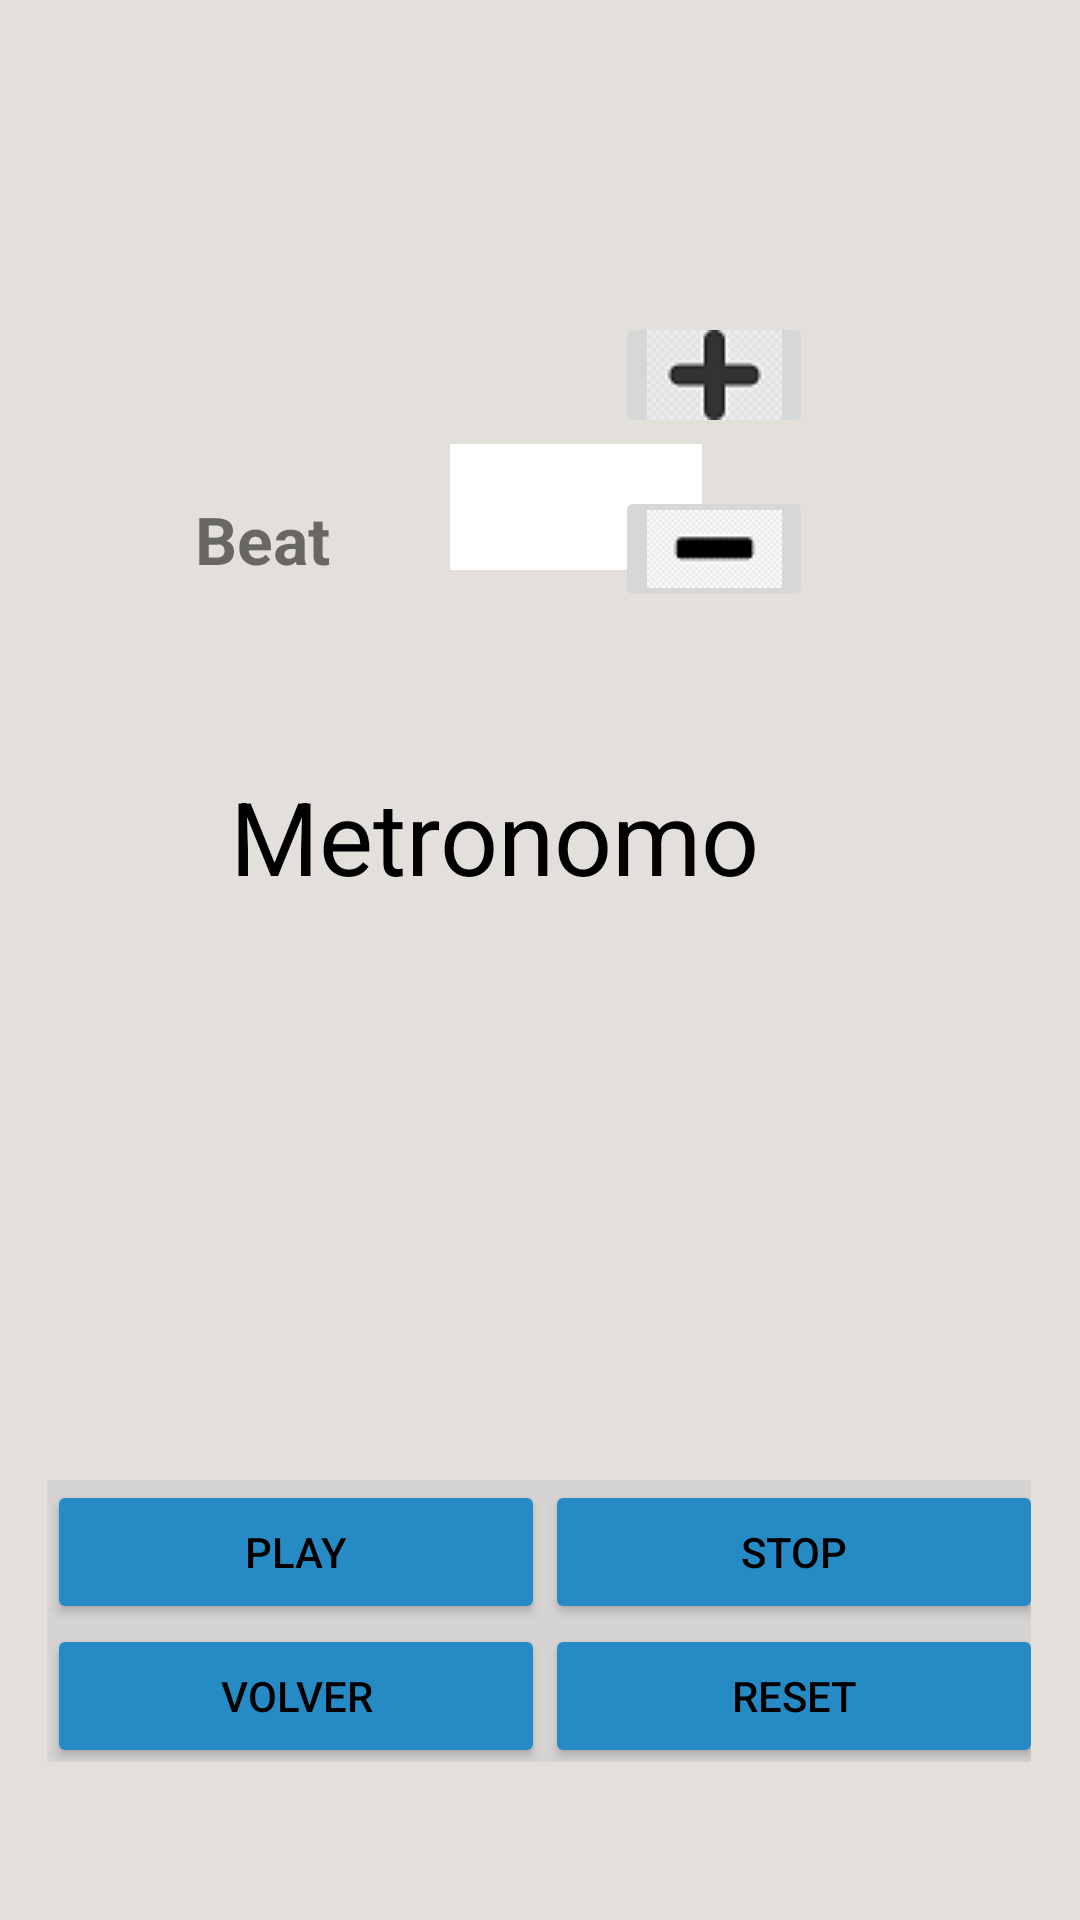

Screen size 1080x1920. Icon name, then its center in pixels as (x=x, y=y):
massedit: (x=714, y=375)
menoss edit: (x=714, y=549)
